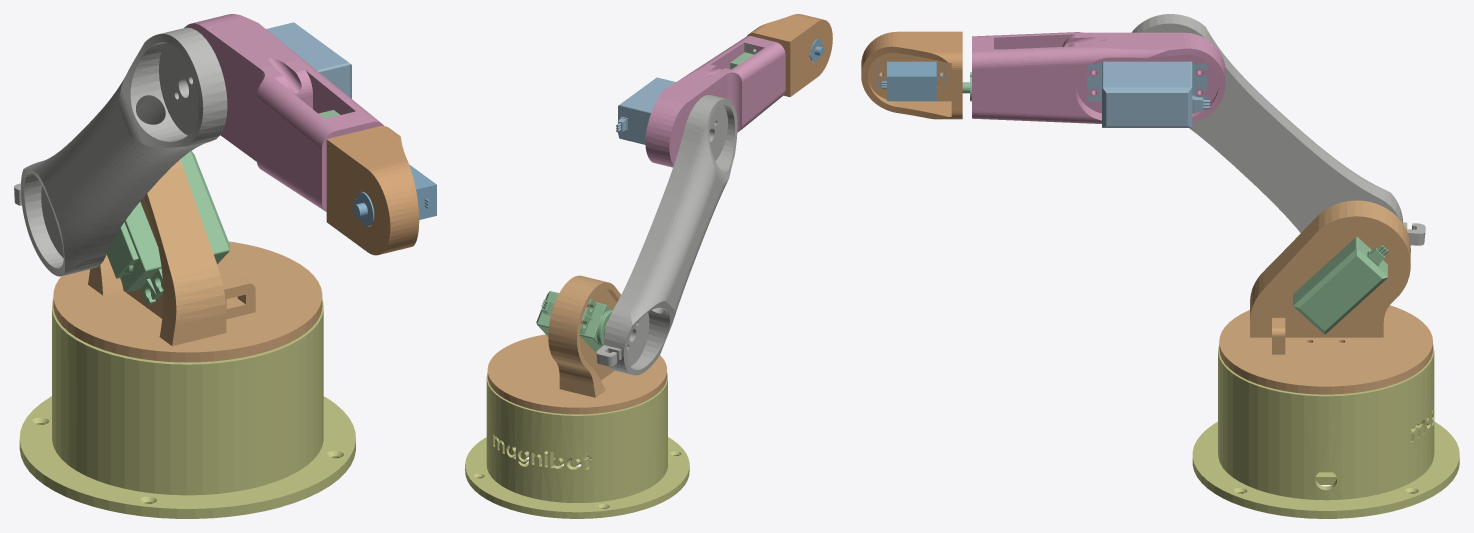
File: case-01_astra6.glb
3 renders of one model, left to right at view 1: azimuth 30°, elevation 25°; view 2: azimuth 150°, elevation 25°; view 3: azimuth 270°, elevation 25°, orthographic. The views are drawn at different scales.
Parts seen in each view (by area): view 1: c00001, c00003, c00005, c00007, c00009, c00004, c00006, c00010; view 2: c00001, c00005, c00003, c00007, c00009, c00006, c00004; view 3: c00001, c00003, c00007, c00005, c00006, c00009, c00004, c00010.
Part boxes in pixels (x1,y1,x2,y2): c00001: [19, 300, 355, 518]; c00003: [53, 160, 322, 362]; c00005: [14, 27, 227, 276]; c00007: [184, 14, 383, 211]; c00009: [326, 126, 419, 255]; c00004: [106, 151, 230, 304]; c00006: [266, 22, 351, 98]; c00010: [353, 164, 436, 226]; c00001: [465, 372, 689, 518]; c00005: [596, 95, 737, 375]; c00003: [487, 275, 666, 414]; c00007: [645, 36, 785, 167]; c00009: [746, 14, 832, 96]; c00006: [616, 77, 675, 144]; c00004: [536, 291, 612, 352]; c00001: [1192, 345, 1459, 518]; c00003: [1219, 200, 1432, 394]; c00007: [972, 32, 1225, 123]; c00005: [1131, 14, 1425, 245]; c00006: [1087, 61, 1209, 127]; c00009: [861, 31, 962, 119]; c00004: [1293, 237, 1388, 334]; c00010: [876, 61, 947, 101].
Bounding box in the file's own units: 121 × 203 × 272.
